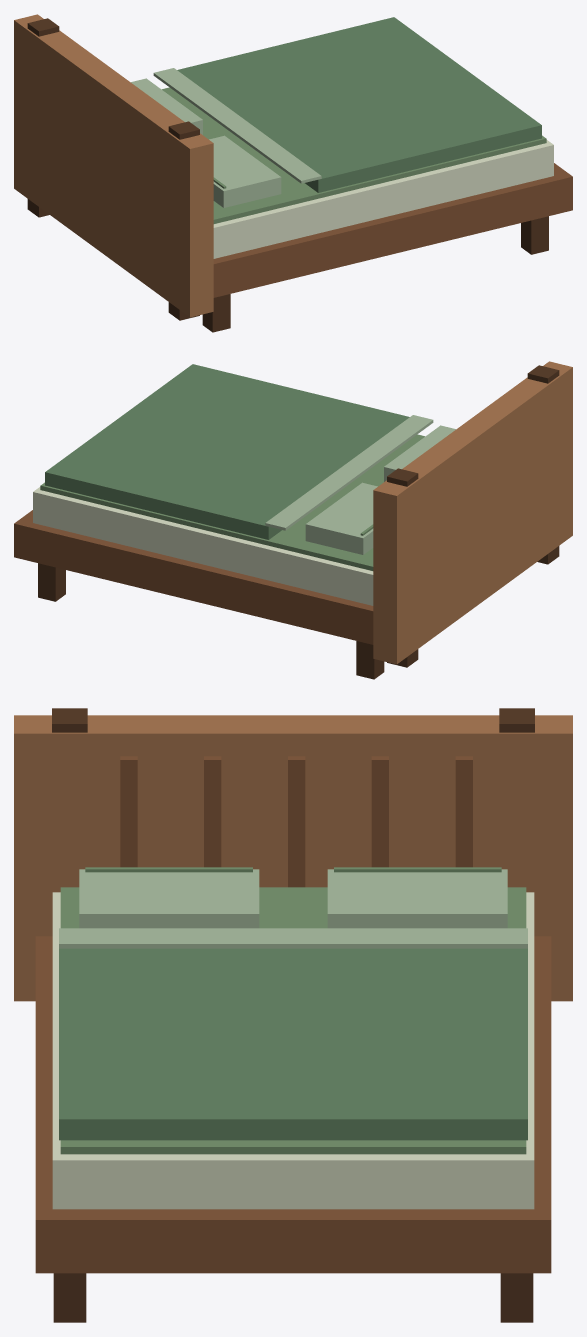
The model's file is bed.glb.
3 views of the same model, one above another, from view 1: azimuth 30°, elevation 25°; view 2: azimuth 150°, elevation 25°; view 3: azimuth 270°, elevation 25° (orthographic). The views are drawn at different scales.
Visible parts, largest first — view 1: 木质床头板, 绿色被褥, 实木床框, 床垫, 绿色床单, 浅绿色枕头 (×2), 被褥折边, 床脚 (×2), 床头板立柱 (×2); view 2: 木质床头板, 绿色被褥, 实木床框, 床垫, 绿色床单, 浅绿色枕头 (×2), 被褥折边, 床脚 (×2), 床头板立柱 (×2); view 3: 绿色被褥, 木质床头板, 实木床框, 床垫, 浅绿色枕头 (×2), 绿色床单, 床头木格条 (×5), 被褥折边, 床脚 (×2), 枕头织边 (×2), 床头板立柱 (×2).
Boxes of the visible parts, x1=… form: 木质床头板: x1=14, y1=14, x2=213, y2=317; 绿色被褥: x1=177, y1=17, x2=541, y2=192; 实木床框: x1=213, y1=163, x2=572, y2=297; 床垫: x1=213, y1=140, x2=553, y2=258; 绿色床单: x1=162, y1=87, x2=546, y2=223; 浅绿色枕头 (×2): x1=131, y1=78, x2=281, y2=207; 被褥折边: x1=153, y1=68, x2=321, y2=183; 床脚 (×2): x1=202, y1=216, x2=548, y2=332; 床头板立柱 (×2): x1=27, y1=18, x2=199, y2=320; 木质床头板: x1=373, y1=361, x2=572, y2=664; 绿色被褥: x1=45, y1=364, x2=409, y2=539; 实木床框: x1=14, y1=510, x2=373, y2=644; 床垫: x1=33, y1=487, x2=373, y2=605; 绿色床单: x1=40, y1=434, x2=424, y2=570; 浅绿色枕头 (×2): x1=305, y1=425, x2=455, y2=554; 被褥折边: x1=265, y1=415, x2=433, y2=530; 床脚 (×2): x1=38, y1=563, x2=384, y2=679; 床头板立柱 (×2): x1=387, y1=365, x2=559, y2=667; 绿色被褥: x1=59, y1=948, x2=527, y2=1140; 木质床头板: x1=14, y1=715, x2=572, y2=1001; 实木床框: x1=35, y1=936, x2=551, y2=1273; 床垫: x1=52, y1=892, x2=534, y2=1209; 浅绿色枕头 (×2): x1=79, y1=869, x2=507, y2=928; 绿色床单: x1=60, y1=887, x2=526, y2=1154; 床头木格条 (×5): x1=120, y1=756, x2=472, y2=887; 被褥折边: x1=59, y1=928, x2=527, y2=948; 床脚 (×2): x1=53, y1=1273, x2=533, y2=1322; 枕头织边 (×2): x1=85, y1=867, x2=501, y2=872; 床头板立柱 (×2): x1=52, y1=708, x2=534, y2=732.
Bounding box in the file's own units: 2.3 × 1.16 × 1.8.
